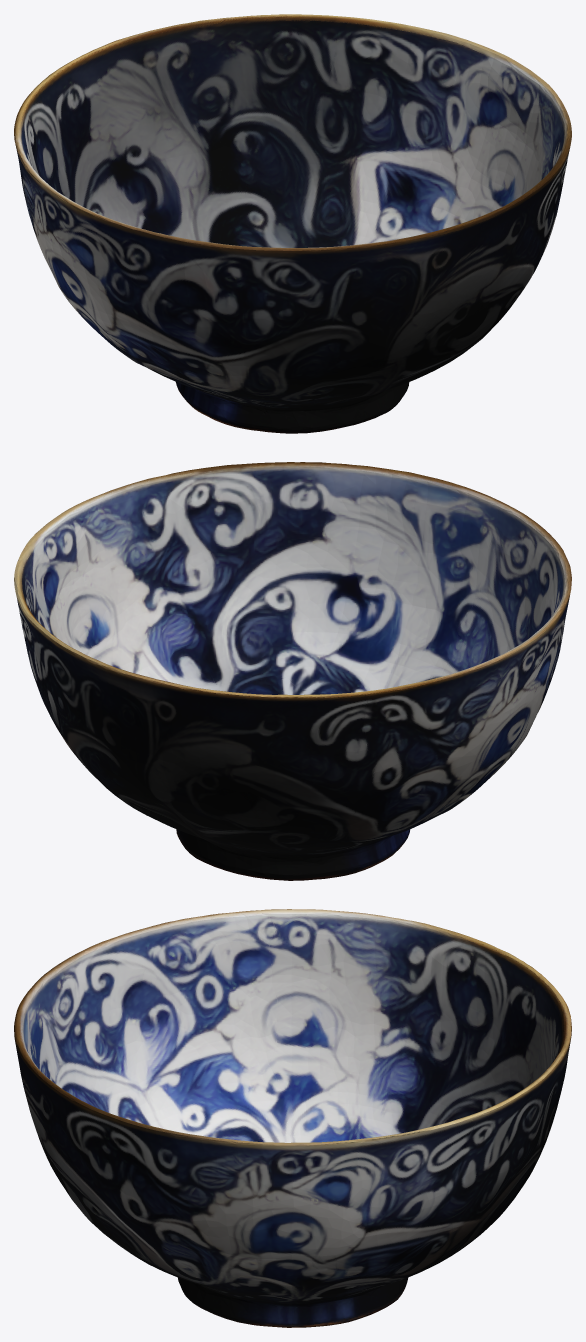
The model's file is porcelain-handcrafted-bowl-3d.jpeg.glb.
3 views of the same model, one above another, from view 1: azimuth 30°, elevation 25°; view 2: azimuth 150°, elevation 25°; view 3: azimuth 270°, elevation 25° (orthographic).
Parts seen in each view (by area): view 1: world; view 2: world; view 3: world.
Boxes of the visible parts, left/top/right/bottom form: world: left=14, top=14, right=571, bottom=433; world: left=14, top=462, right=571, bottom=880; world: left=14, top=909, right=571, bottom=1327.
Size of the model in its own units: 1 by 0.504 by 0.9995.
1 material, 1 textured.
